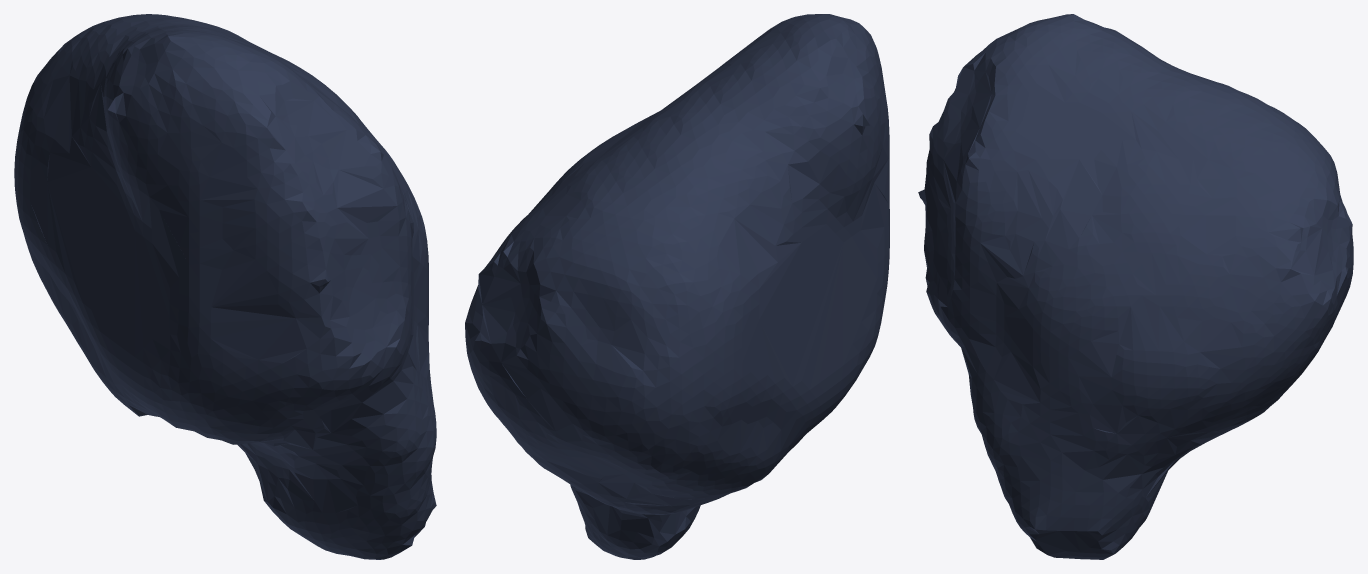
The model's file is Model_267_RH__Mediodorsal_thalamic_nucleus_(MD).obj.
3 views of the same model, side by side, from view 1: azimuth 30°, elevation 25°; view 2: azimuth 150°, elevation 25°; view 3: azimuth 270°, elevation 25° (orthographic). The views are drawn at different scales.
Bounding box in the file's own units: 2.19 × 3.59 × 3.06.
